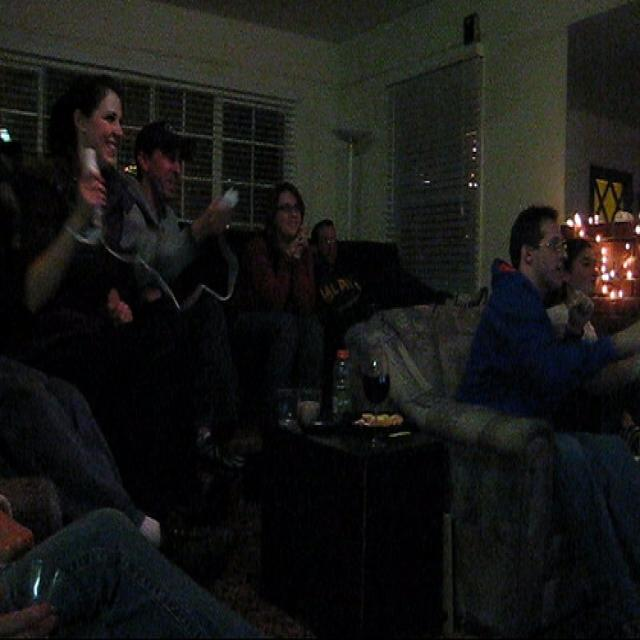Bottle: (366, 345, 405, 435), (326, 335, 358, 430)
People: (5, 330, 196, 528), (28, 54, 131, 367), (0, 529, 230, 640), (141, 105, 215, 385), (491, 171, 568, 396), (255, 146, 314, 366), (314, 211, 368, 380), (558, 230, 605, 370)
Table: (254, 370, 442, 639)
chair: (365, 280, 640, 625)
